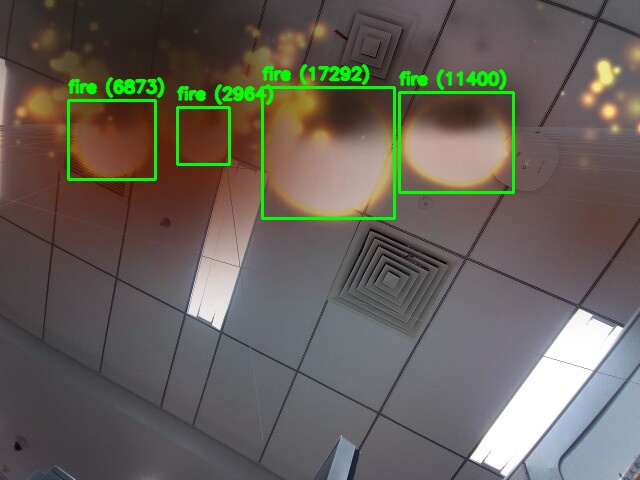fire: (262, 87, 394, 218), (399, 92, 513, 192), (68, 100, 155, 179), (177, 107, 229, 164)
